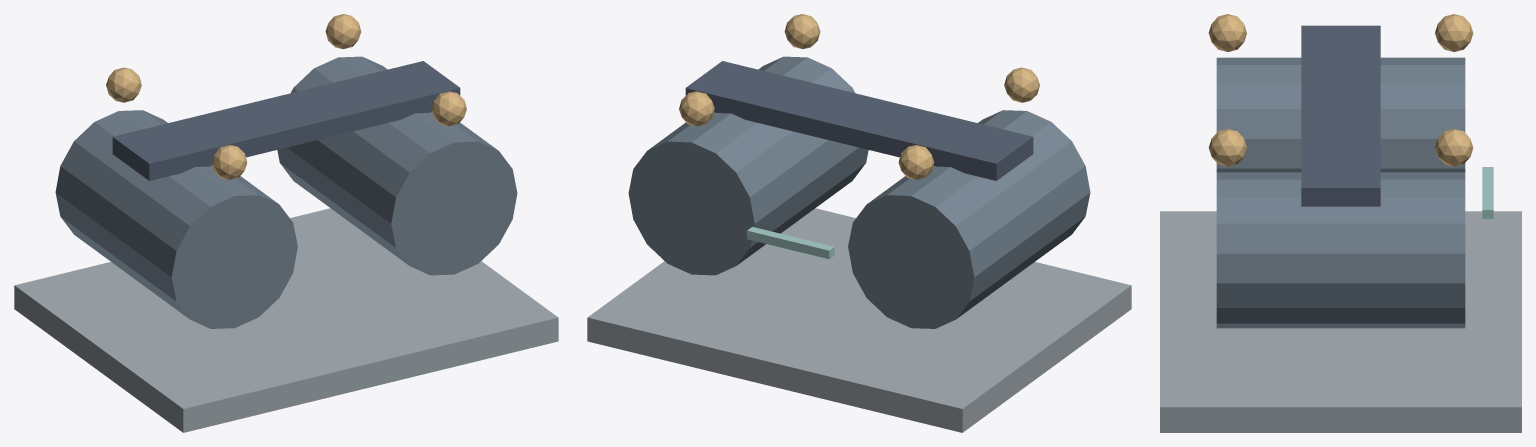
The model's file is power_generator.glb.
The picture shows the model from 3 angles, left to right: view 1: azimuth 30°, elevation 25°; view 2: azimuth 150°, elevation 25°; view 3: azimuth 270°, elevation 25°; orthographic projection. The views are drawn at different scales.
Parts seen in each view (by area): view 1: world; view 2: world; view 3: world.
Boxes of the visible parts, bbox=[...] form: world: bbox=[14, 14, 558, 432]; world: bbox=[587, 14, 1131, 432]; world: bbox=[1160, 14, 1521, 432].
Size of the model in its own units: 4.1 by 2.55 by 3.2.
